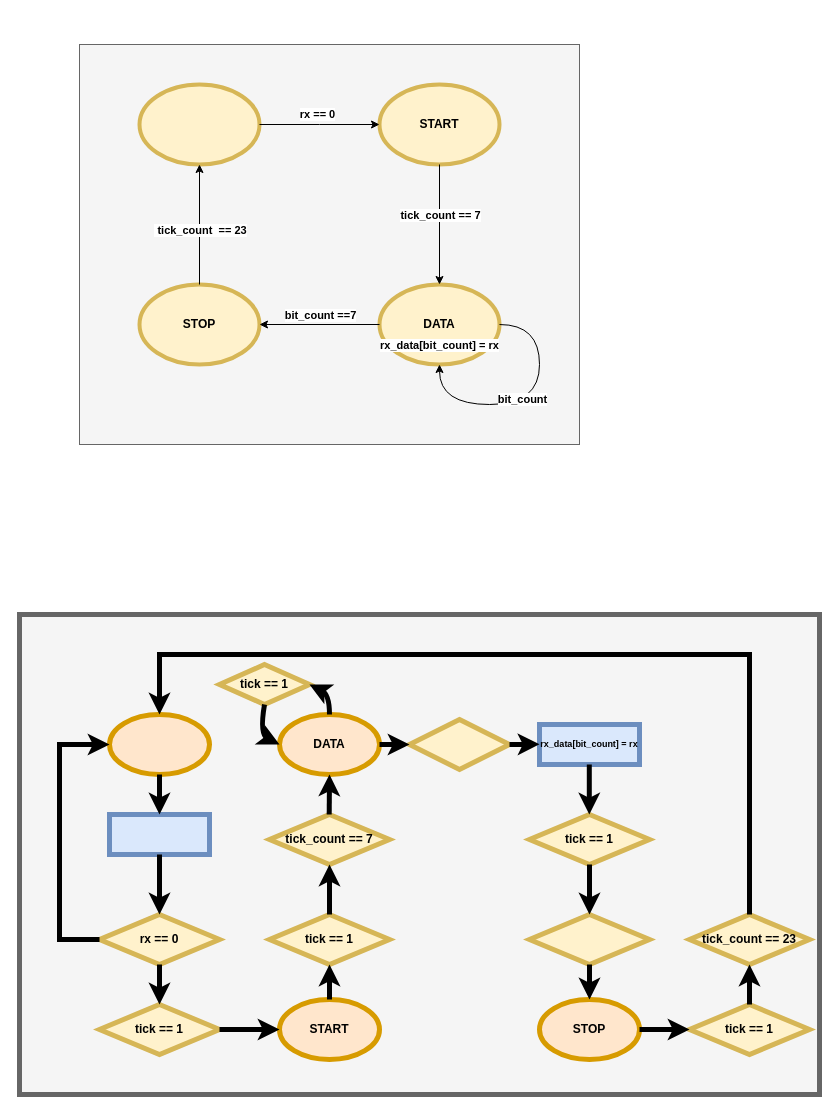
Image size: 839x1114. Some labels were removed from this diagram. The shapes that lost their labels are listed below. From the top down, each one's box as (x1, y1, x2, y2) in pixels, then its label:
(137, 82, 261, 166): IDLE rx = '1'
(78, 44, 580, 444): uart_rx FSM
(106, 712, 212, 776): IDLE
(406, 716, 512, 772): tick_count == 15
(106, 812, 212, 856): RX = '1'
(16, 612, 822, 1096): uart_rx ASM
(526, 912, 652, 966): bit_count == 7
